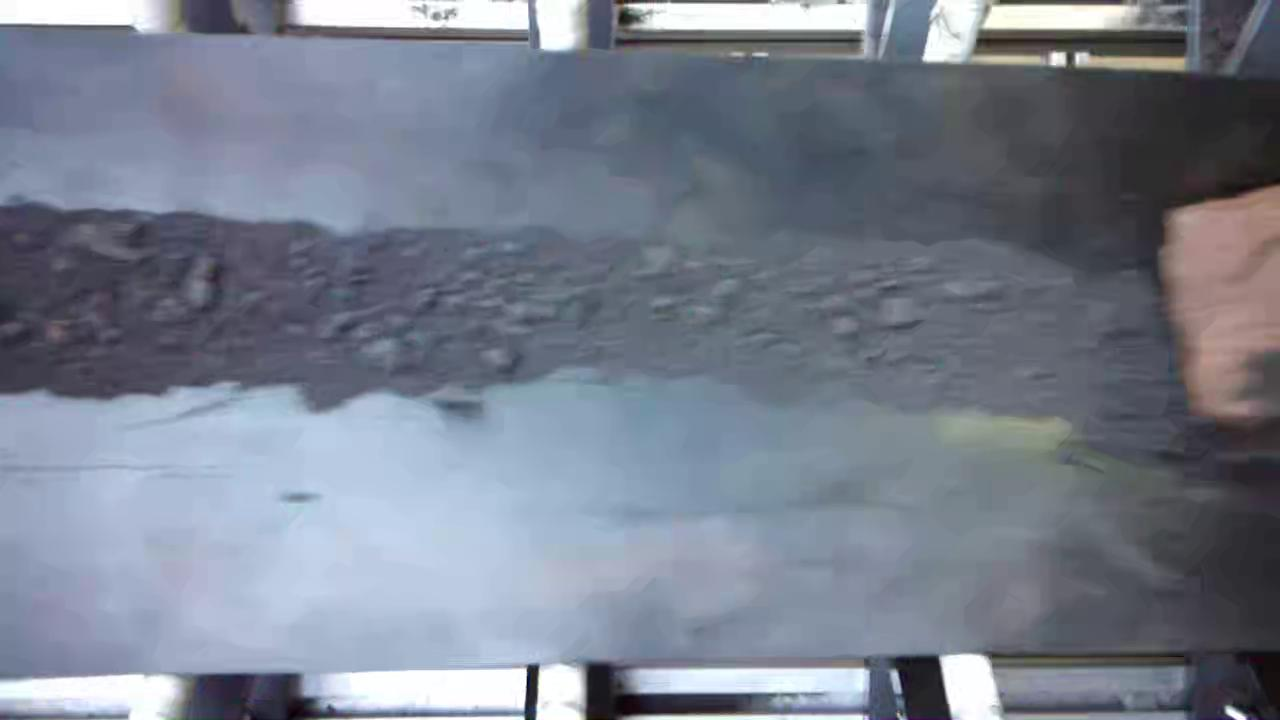conveyor: (9, 81, 1276, 644)
